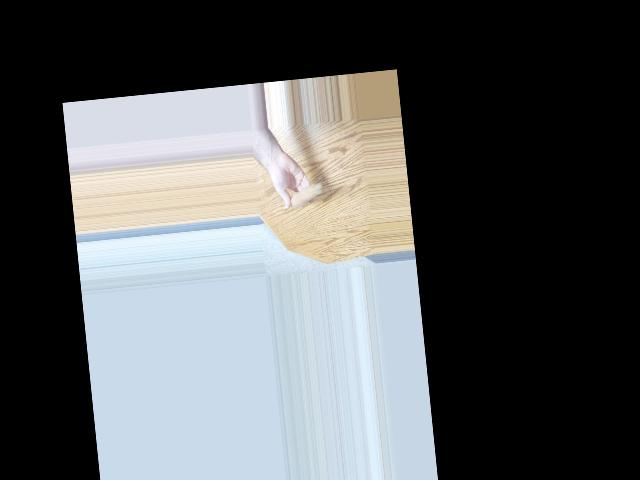sweet_potato: (286, 180, 324, 208)
